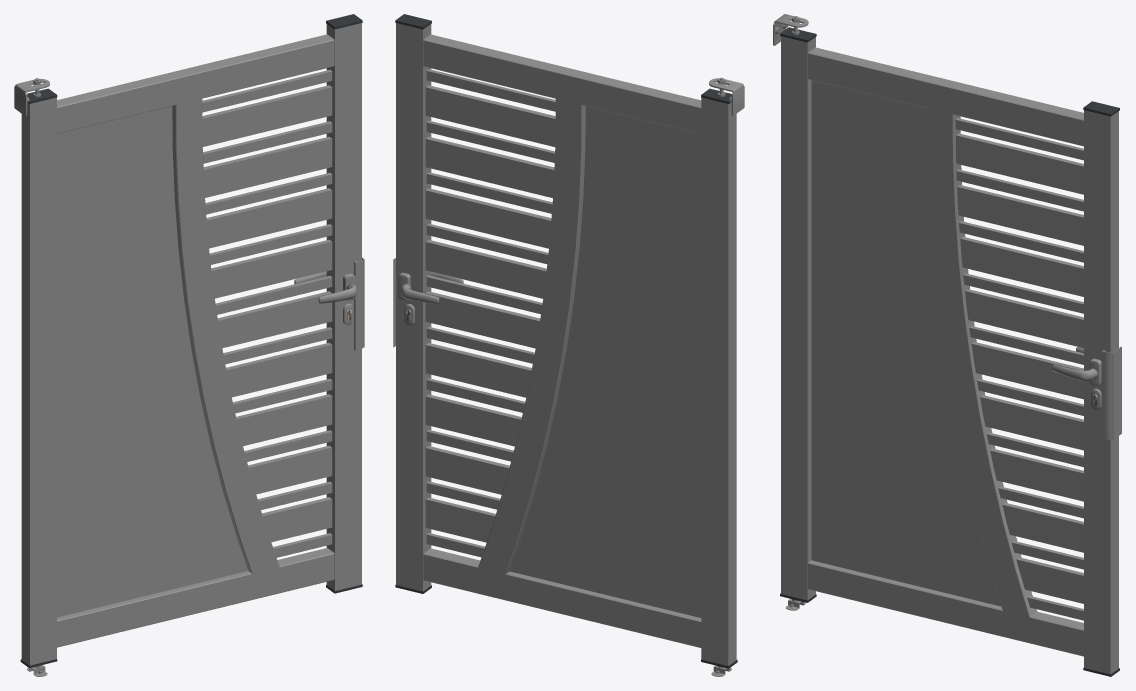
The picture shows the model from 3 angles, left to right: view 1: azimuth 30°, elevation 25°; view 2: azimuth 150°, elevation 25°; view 3: azimuth 330°, elevation 25°; orthographic projection.
Visible parts, largest first — view 1: Line059, Shape107412643, Shape107412638, Shape107412723, Shape107412708, Shape107412709, Shape107412732, Shape107412731, Shape107412730, Shape107412718, Shape107412728, Shape107412727 (+15 smaller); view 2: Line059, Shape107412643, Shape107412638, Shape107412723, Shape107412708, Shape107412709, Shape107412732, Shape107412731, Shape107412730, Shape107412718, Shape107412728, Shape107412727 (+14 smaller); view 3: Line059, Shape107412638, Shape107412643, Shape107412723, Shape107412708, Shape107412709, Shape107412732, Shape107412731, Shape107412730, Shape107412718, Shape107412728, Shape107412727 (+14 smaller).
Boxes of the visible parts, left/top/right/bottom form: Line059: left=57, top=106, right=247, bottom=617; Shape107412643: left=21, top=97, right=56, bottom=665; Shape107412638: left=326, top=23, right=361, bottom=590; Shape107412723: left=172, top=98, right=279, bottom=573; Shape107412708: left=57, top=34, right=334, bottom=133; Shape107412709: left=57, top=548, right=334, bottom=647; Shape107412732: left=202, top=85, right=332, bottom=146; Shape107412731: left=203, top=136, right=332, bottom=197; Shape107412730: left=206, top=188, right=332, bottom=248; Shape107412718: left=211, top=239, right=332, bottom=298; Shape107412728: left=217, top=291, right=332, bottom=348; Shape107412727: left=226, top=342, right=332, bottom=397; Line059: left=510, top=106, right=701, bottom=617; Shape107412643: left=701, top=97, right=736, bottom=665; Shape107412638: left=396, top=23, right=431, bottom=591; Shape107412723: left=477, top=91, right=585, bottom=586; Shape107412708: left=423, top=34, right=701, bottom=133; Shape107412709: left=423, top=548, right=701, bottom=647; Shape107412732: left=425, top=85, right=555, bottom=146; Shape107412731: left=425, top=136, right=554, bottom=197; Shape107412730: left=425, top=188, right=551, bottom=248; Shape107412718: left=425, top=240, right=546, bottom=298; Shape107412728: left=425, top=291, right=540, bottom=348; Shape107412727: left=425, top=343, right=531, bottom=397; Line059: left=811, top=80, right=1001, bottom=606; Shape107412638: left=1084, top=110, right=1118, bottom=674; Shape107412643: left=781, top=36, right=815, bottom=600; Shape107412723: left=927, top=108, right=1037, bottom=617; Shape107412708: left=808, top=47, right=1083, bottom=146; Shape107412709: left=808, top=560, right=1083, bottom=656; Shape107412732: left=956, top=133, right=1083, bottom=194; Shape107412731: left=957, top=185, right=1083, bottom=245; Shape107412730: left=960, top=237, right=1083, bottom=296; Shape107412718: left=965, top=289, right=1083, bottom=348; Shape107412728: left=971, top=342, right=1083, bottom=399; Shape107412727: left=980, top=395, right=1083, bottom=450.
Size of the model in its own units: 1015 by 1688 by 152.
Materials: 7 (4 with a texture image).
